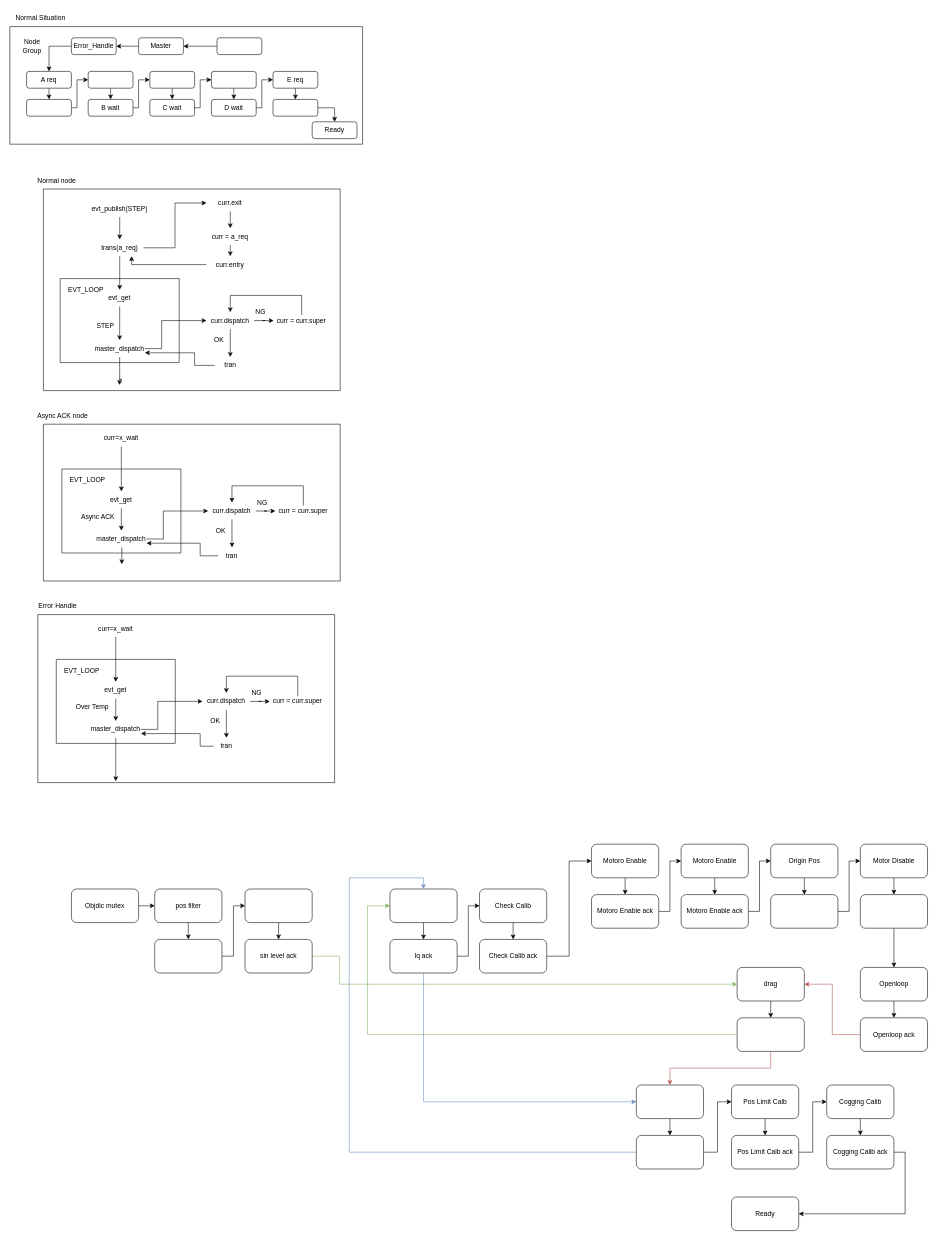
This 937x1240 diagram has some shape labels left out. Each missing label, with the box of its shape:
A wait: (26, 99, 71, 116)
B req: (88, 71, 133, 88)
C req: (149, 71, 195, 88)
D req: (211, 71, 256, 88)
drag ack: (737, 1017, 804, 1051)
E wait: (272, 99, 318, 116)
Iq: (389, 888, 457, 923)
Motor Calib: (636, 1084, 704, 1119)
Motor Calib ack: (636, 1135, 704, 1169)
Motor Disable ack: (860, 894, 928, 928)
Origin Pos ack: (770, 894, 838, 928)
pos filter ack: (154, 939, 222, 973)
sin level: (244, 888, 312, 923)
Top: (216, 37, 262, 55)
